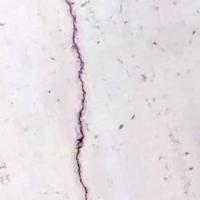crack: (44, 0, 116, 199)
